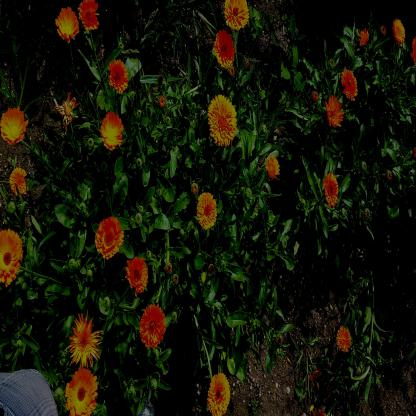marigold: (66, 370, 97, 416), (71, 316, 98, 366), (209, 94, 236, 144), (0, 231, 24, 283), (140, 302, 164, 343), (97, 218, 122, 254), (209, 373, 229, 415), (1, 108, 26, 140), (55, 6, 78, 40), (197, 191, 218, 228), (215, 30, 236, 66), (225, 0, 249, 30), (101, 111, 122, 145), (127, 257, 147, 291), (109, 59, 128, 91), (79, 0, 99, 30), (342, 69, 358, 100), (324, 173, 339, 206), (9, 170, 27, 195), (327, 98, 342, 126), (264, 156, 279, 180), (336, 326, 350, 351), (392, 19, 406, 40)
